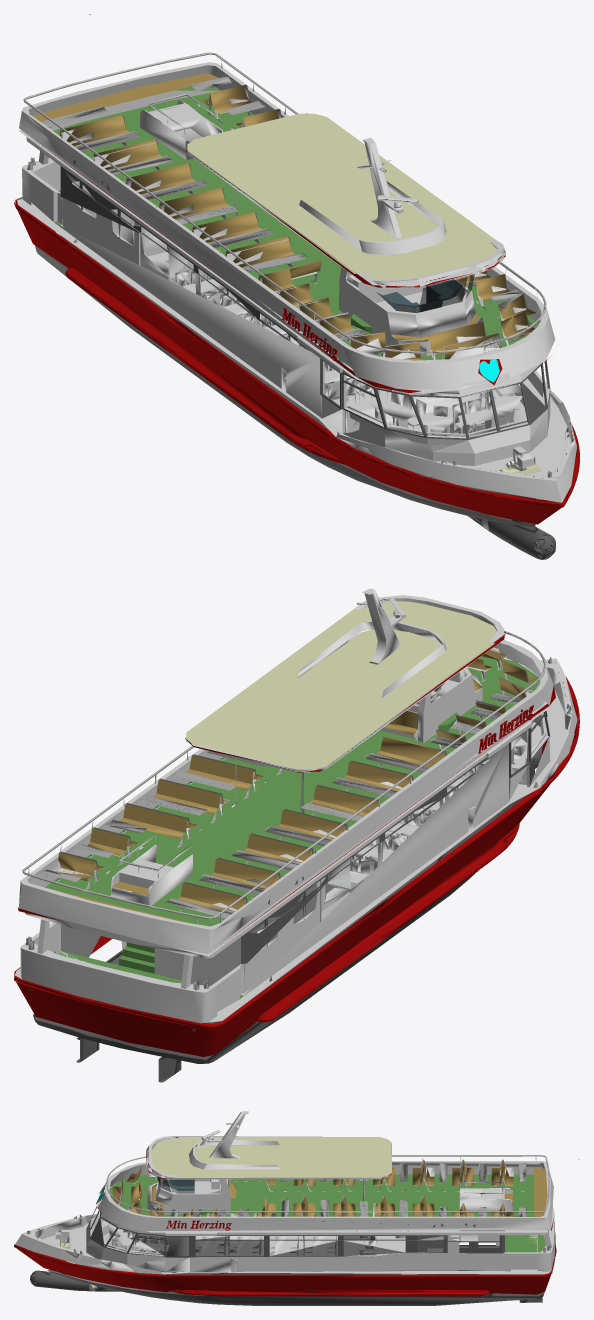
Rendered from ferry.glb.
3 renders of one model, top to bottom at view 1: azimuth 30°, elevation 25°; view 2: azimuth 150°, elevation 25°; view 3: azimuth 270°, elevation 25°, orthographic. The views are drawn at different scales.
Visible parts, largest first — view 1: Material2 (×4), Material3 (×6); view 2: Material2 (×2), Material3 (×6); view 3: Material2 (×4), Material3 (×6).
Boxes of the visible parts, box(x1,y1,x2,y2) form: Material2 (×4): box(14, 61, 579, 529); Material3 (×6): box(23, 14, 571, 559); Material2 (×2): box(14, 588, 579, 1059); Material3 (×6): box(22, 599, 571, 1082); Material2 (×4): box(14, 1111, 556, 1296); Material3 (×6): box(27, 1123, 579, 1305).
Bounding box in the file's own units: 40.85 × 55.68 × 160.
